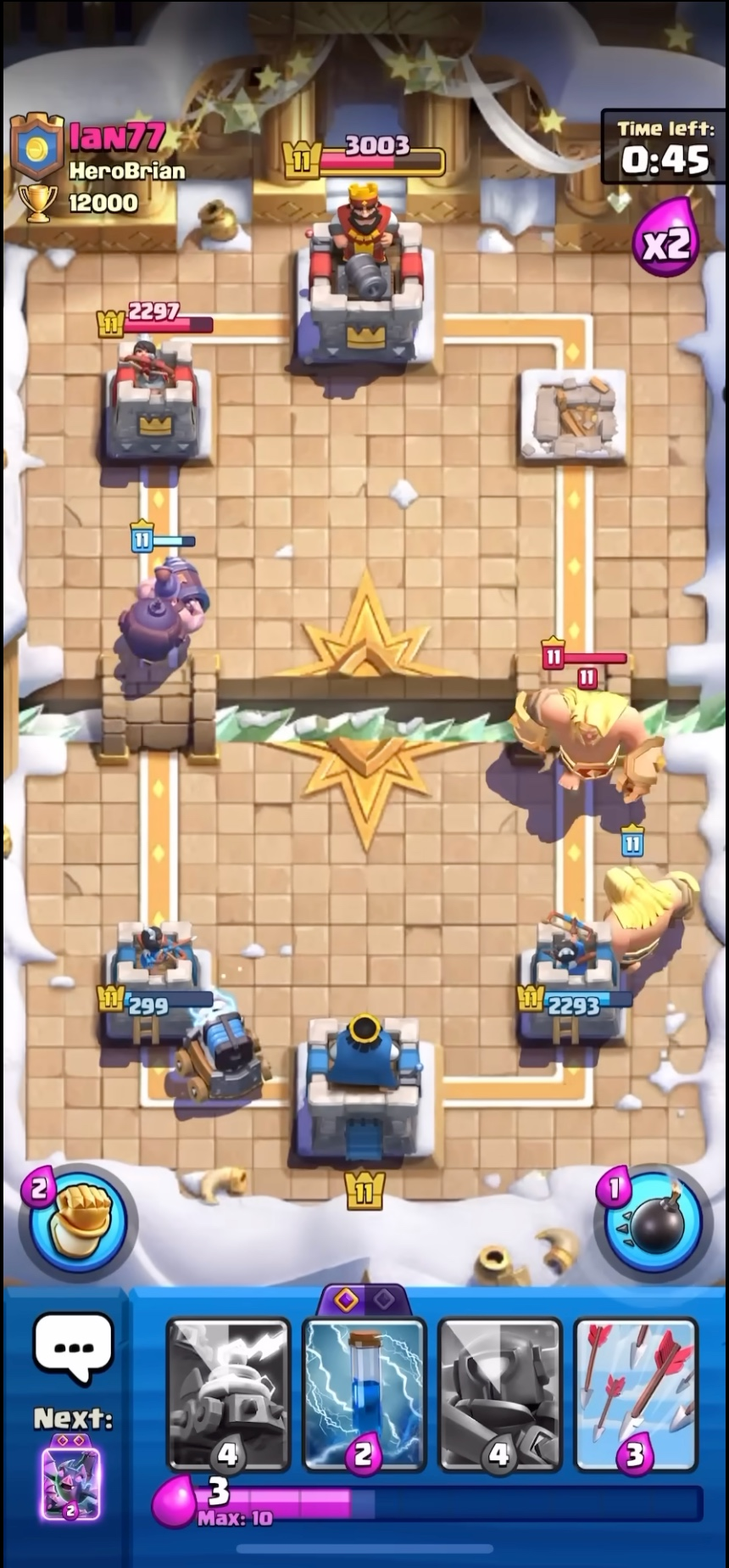hero-giant: (510, 630, 670, 813)
